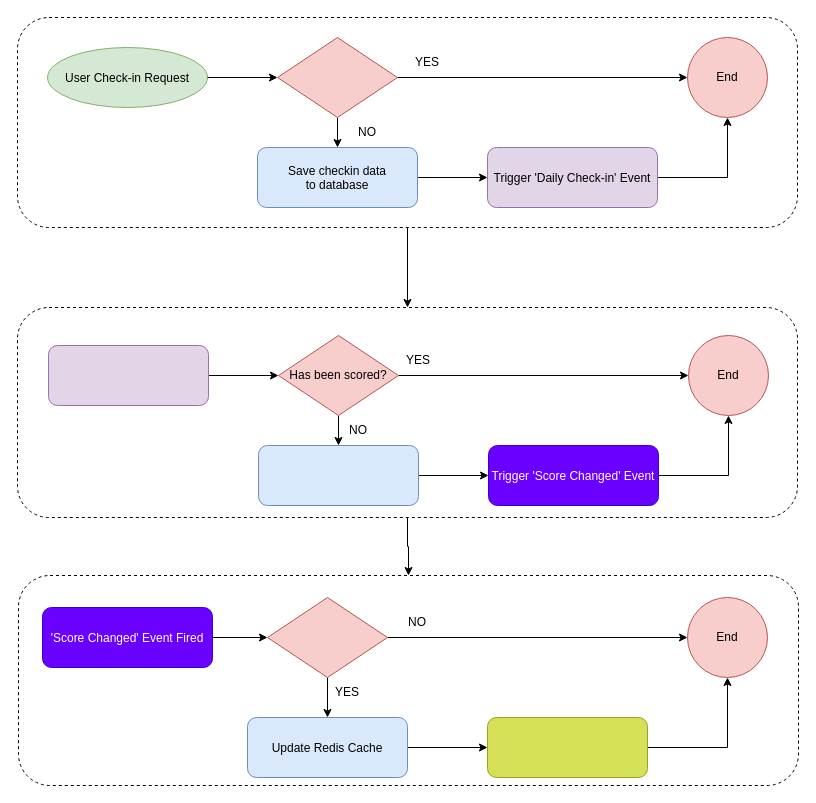
The diagram is 816 pixels wide and 803 high, and some of its shapes have lost their labels. Here are the shapes that lost their labels. From the top down, the centre of each, then its label:
the point at 337,77: Already checkin?
the point at 128,375: 'Daily Check-in' Event Fired
the point at 338,475: Modify user score Save to database
the point at 327,637: Top 10 changed?
the point at 567,747: Notify clients via SSE
